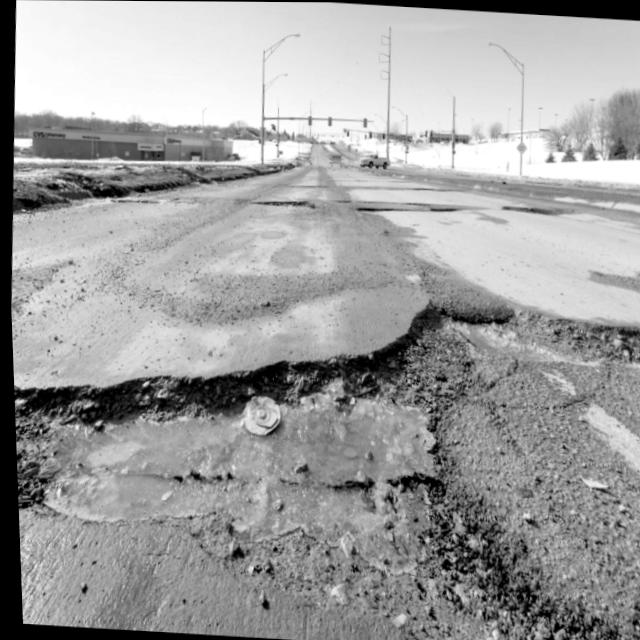pathole: (11, 267, 640, 640), (241, 396, 276, 434), (354, 203, 457, 212), (97, 191, 166, 203), (501, 206, 553, 213), (252, 199, 305, 205), (330, 199, 350, 202)
